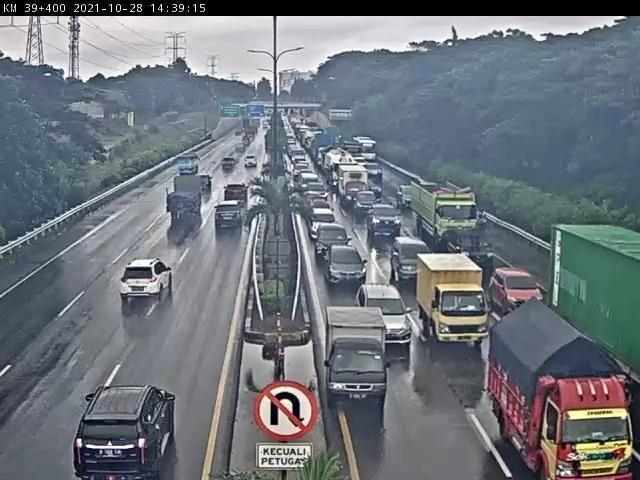car: (73, 383, 177, 480), (358, 286, 414, 349), (489, 268, 545, 310), (120, 258, 175, 300), (447, 227, 496, 269), (391, 237, 433, 286), (324, 245, 368, 290), (316, 223, 354, 267), (368, 204, 404, 239), (308, 210, 340, 241), (215, 202, 244, 229), (222, 184, 249, 207), (354, 192, 378, 215)
truck: (490, 309, 636, 480), (416, 252, 491, 348), (322, 306, 392, 408), (410, 181, 481, 246), (165, 177, 203, 222)
